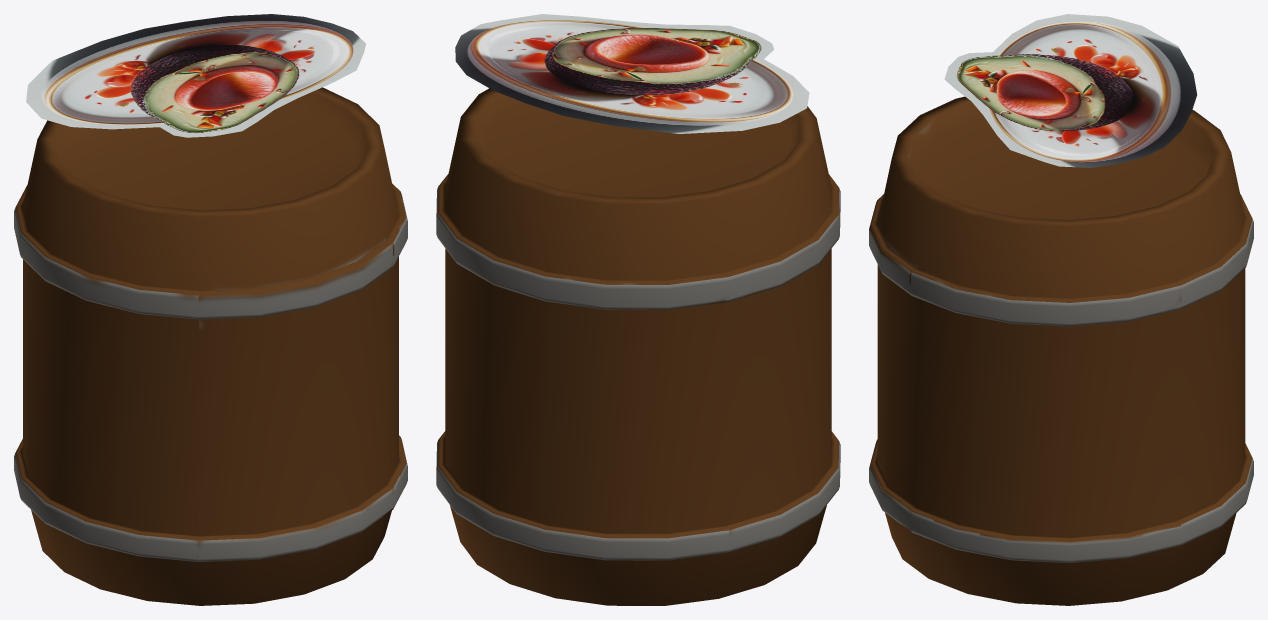
The model's file is Ingredientes_11_PulpadeZombie.fbx.
The picture shows the model from 3 angles, left to right: view 1: azimuth 30°, elevation 25°; view 2: azimuth 150°, elevation 25°; view 3: azimuth 270°, elevation 25°; orthographic projection. The views are drawn at different scales.
Parts seen in each view (by area): view 1: Barril_mesh, MK_Ingredientes_11_PulpadeZombie; view 2: Barril_mesh, MK_Ingredientes_11_PulpadeZombie; view 3: Barril_mesh, MK_Ingredientes_11_PulpadeZombie.
Boxes of the visible parts, x1,y1,x2,y2 form: Barril_mesh: (14,87,407,605); MK_Ingredientes_11_PulpadeZombie: (26,14,365,137); Barril_mesh: (436,88,840,605); MK_Ingredientes_11_PulpadeZombie: (455,14,809,133); Barril_mesh: (869,96,1253,605); MK_Ingredientes_11_PulpadeZombie: (944,14,1197,167).
Size of the model in its own units: 1.84 by 2.33 by 1.84.
2 materials, 2 textured.
